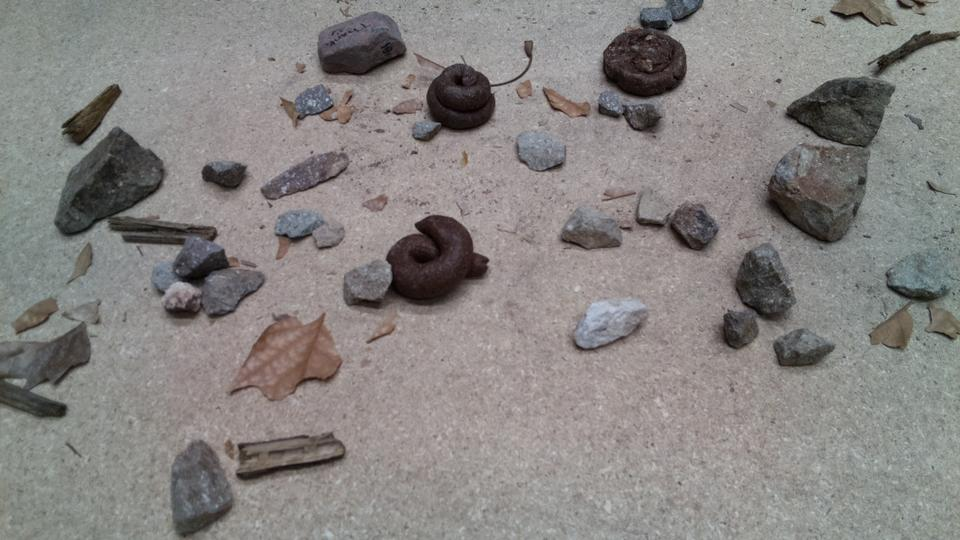poop: (386, 212, 490, 300), (602, 26, 689, 97), (429, 63, 495, 130)
